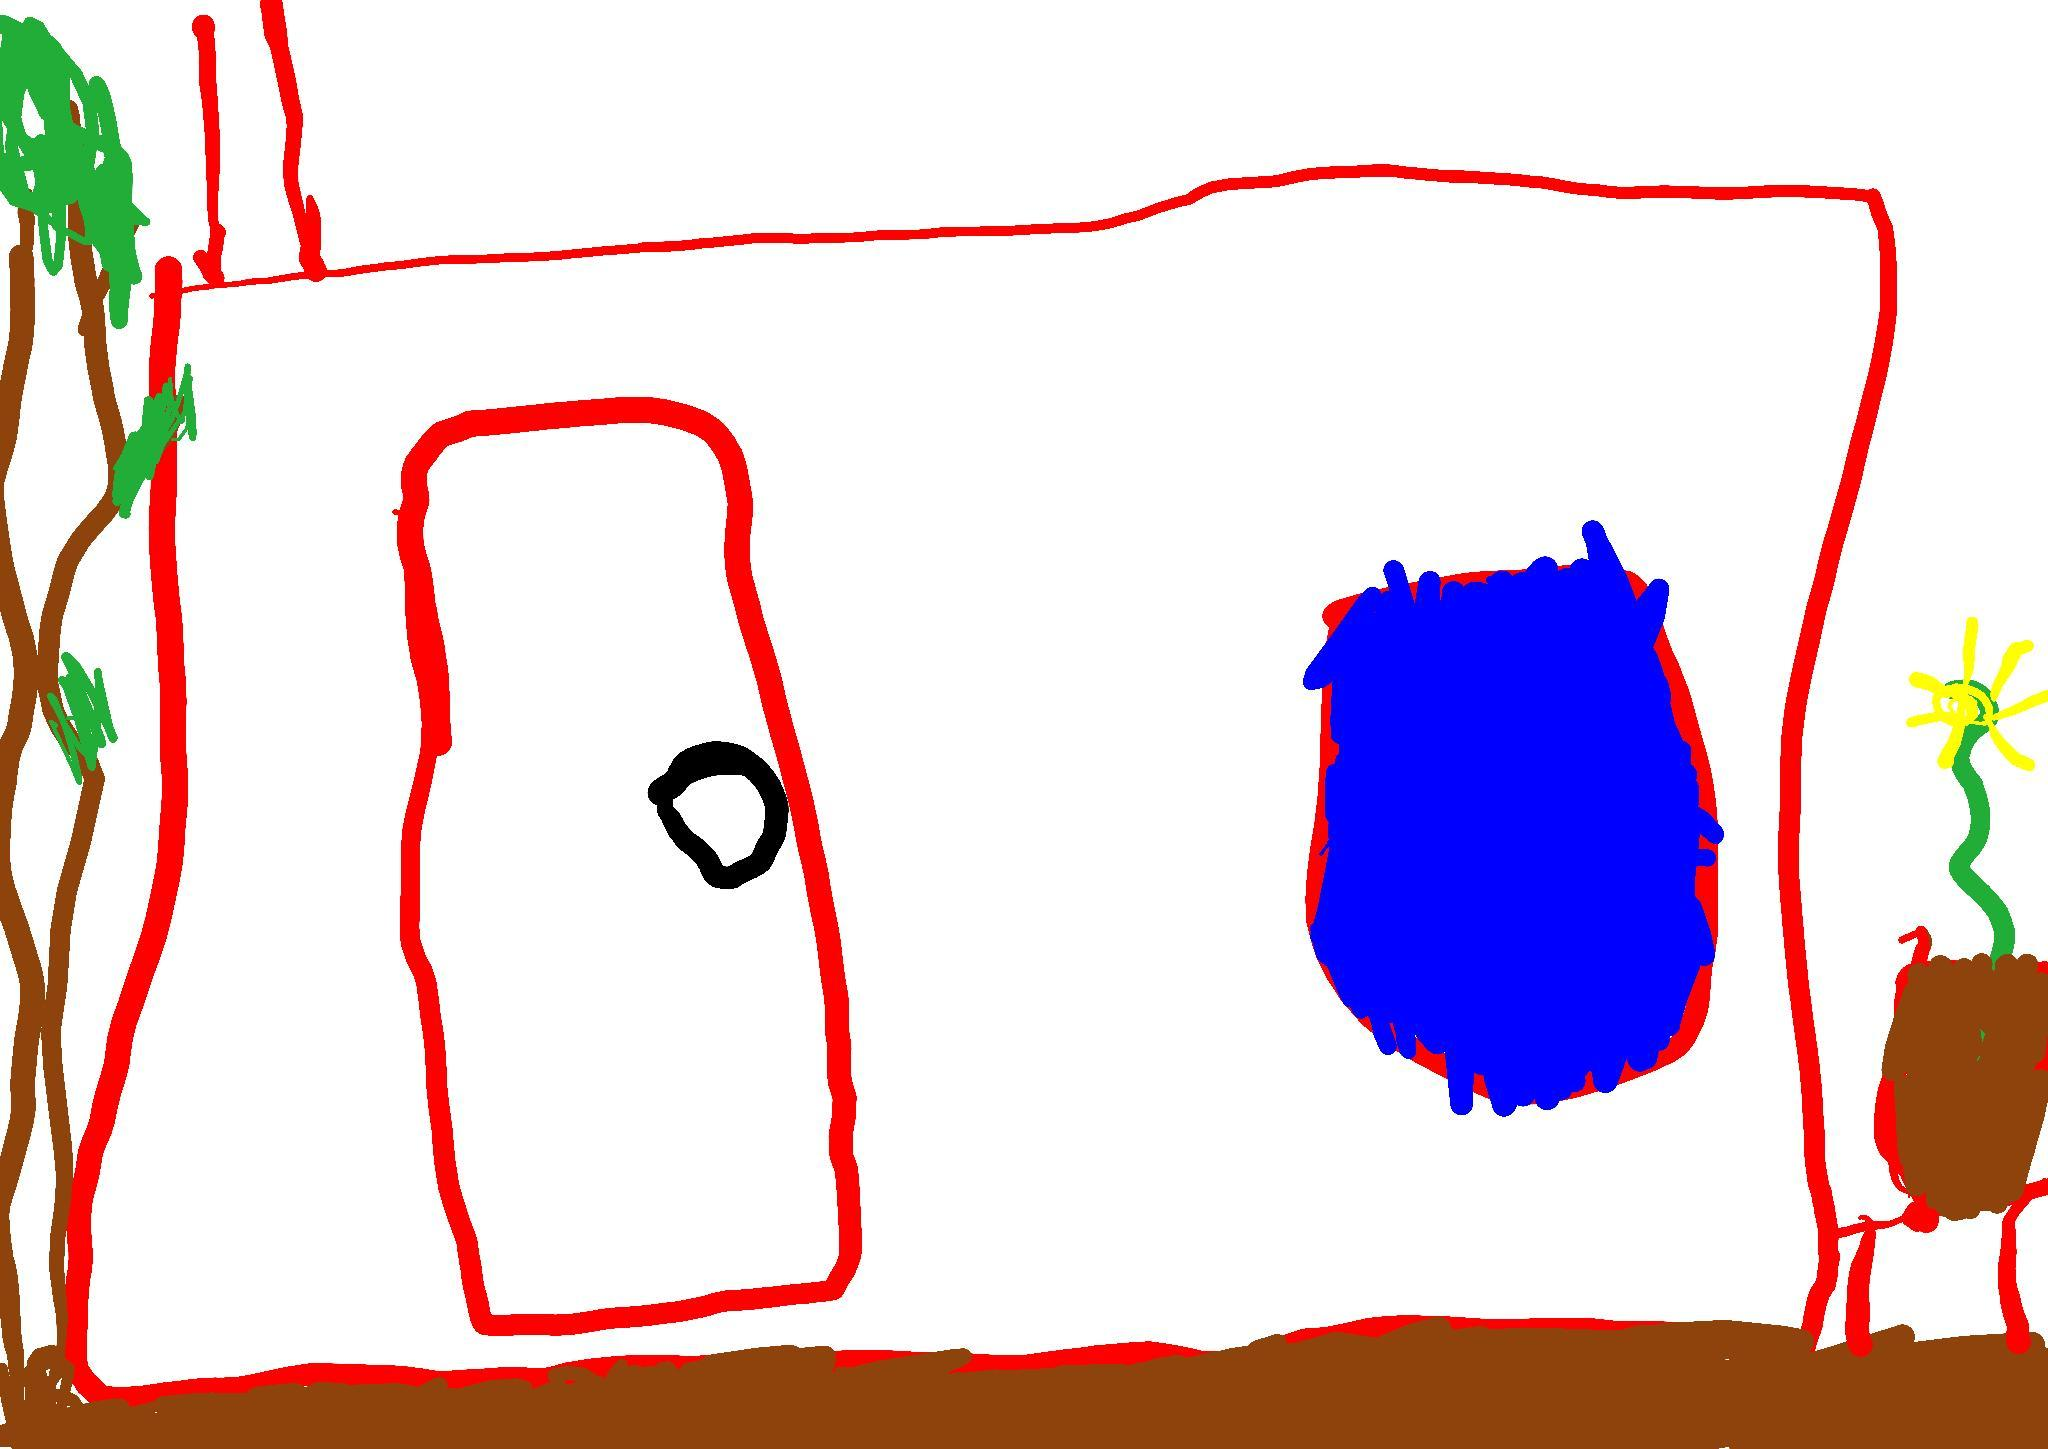chimney: (196, 0, 326, 289)
door: (405, 406, 850, 1316)
house: (66, 0, 1890, 1402)
wall: (60, 179, 1894, 1402)
window: (1306, 521, 1727, 1117)
